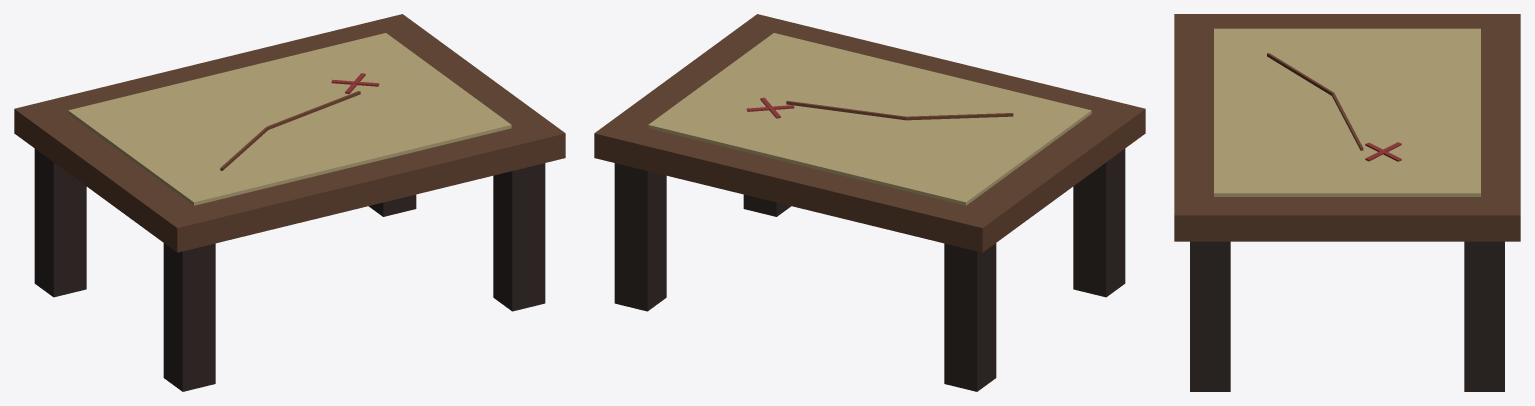
Rendered from PirateCove_MapTableTunnel_Simple.glb.
3 renders of one model, left to right at view 1: azimuth 30°, elevation 25°; view 2: azimuth 150°, elevation 25°; view 3: azimuth 270°, elevation 25°, orthographic. The views are drawn at different scales.
Parts seen in each view (by area): view 1: PirateCove_MapTableTunnel_Simple; view 2: PirateCove_MapTableTunnel_Simple; view 3: PirateCove_MapTableTunnel_Simple.
Part boxes in pixels (bbox=[...]): PirateCove_MapTableTunnel_Simple: bbox=[14, 14, 565, 391]; PirateCove_MapTableTunnel_Simple: bbox=[594, 14, 1145, 391]; PirateCove_MapTableTunnel_Simple: bbox=[1174, 14, 1520, 391].
Size of the model in its own units: 3.3 by 1.45 by 2.4.
